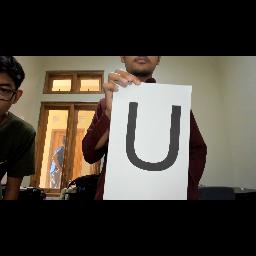u: (121, 92, 189, 176)
